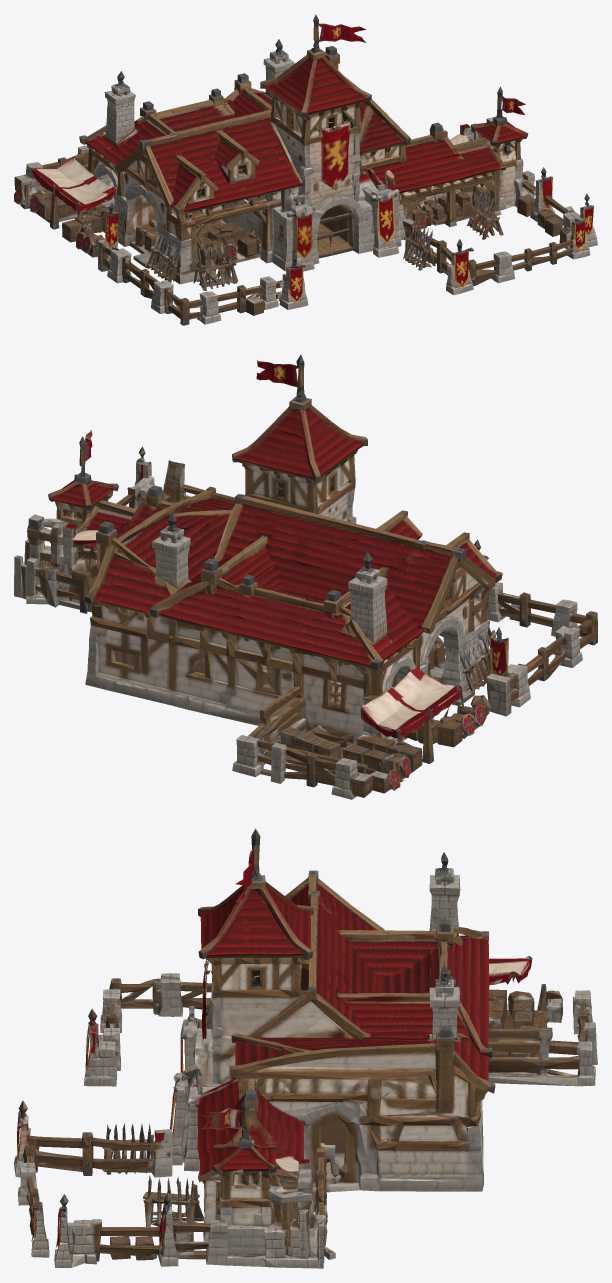
File: military camp level 1.glb
3 renders of one model, top to bottom at view 1: azimuth 30°, elevation 25°; view 2: azimuth 150°, elevation 25°; view 3: azimuth 270°, elevation 25°, orthographic. The views are drawn at different scales.
Visible parts, largest first — view 1: output_unwrapped; view 2: output_unwrapped; view 3: output_unwrapped.
Part boxes in pixels (left/top/right/bottom): output_unwrapped: left=14, top=14, right=597, bottom=325; output_unwrapped: left=14, top=354, right=597, bottom=799; output_unwrapped: left=14, top=828, right=597, bottom=1268.
Size of the model in its own units: 1.9 by 1.03 by 1.79.
Materials: 1 (1 with a texture image).
